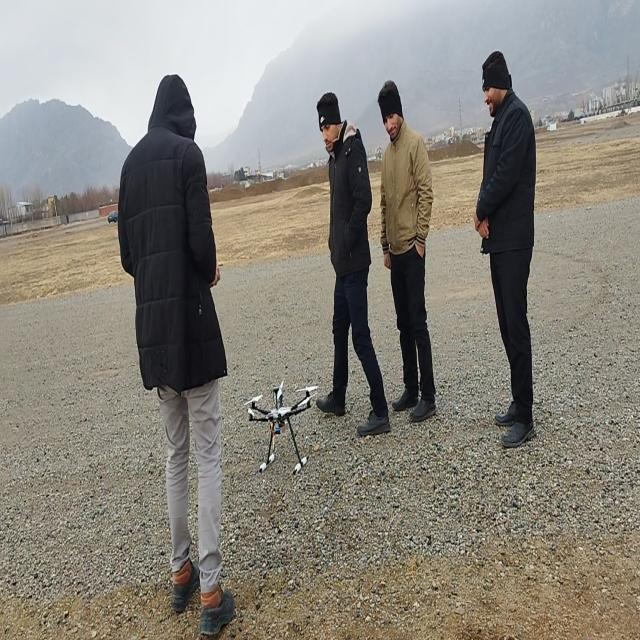drone: (244, 380, 318, 475)
